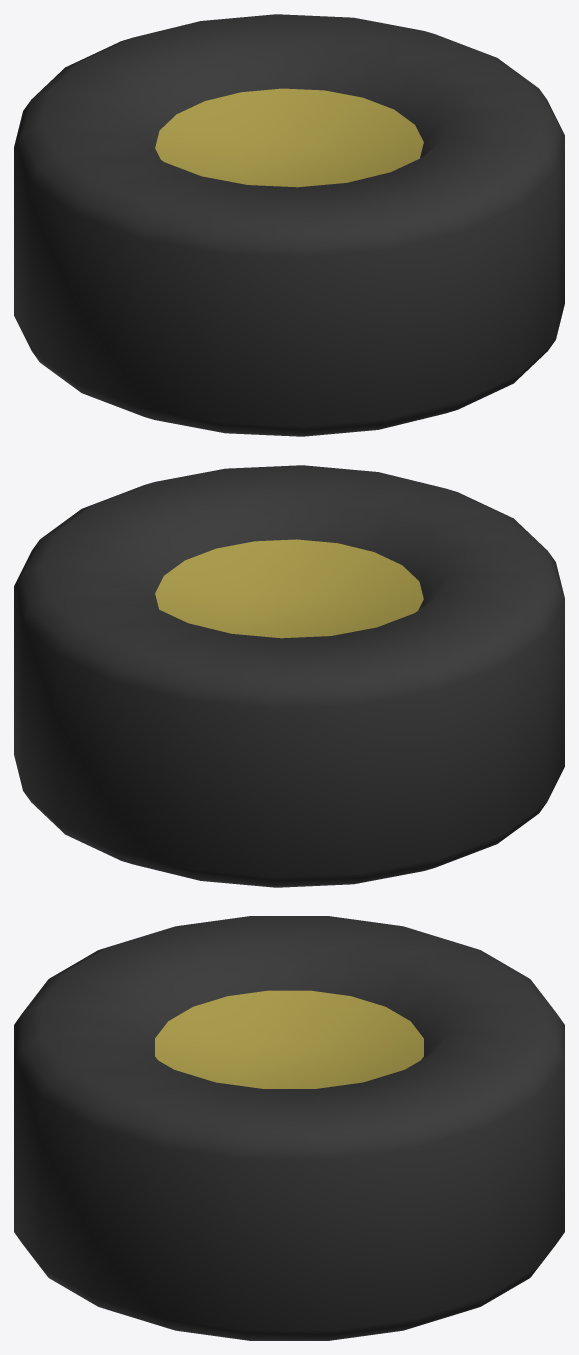
The model's file is wheel.dae.
3 renders of one model, top to bottom at view 1: azimuth 30°, elevation 25°; view 2: azimuth 150°, elevation 25°; view 3: azimuth 270°, elevation 25°, orthographic.
Parts seen in each view (by area): view 1: Plane_003, Plane_004; view 2: Plane_003, Plane_004; view 3: Plane_003, Plane_004.
Part boxes in pixels (<box>): Plane_003: <box>14,14,564,436</box>; Plane_004: <box>155,88,423,187</box>; Plane_003: <box>14,465,564,887</box>; Plane_004: <box>155,539,423,638</box>; Plane_003: <box>14,916,564,1340</box>; Plane_004: <box>155,990,423,1088</box>.
Bounding box in the file's own units: 0.2222 × 0.2222 × 0.0959.
